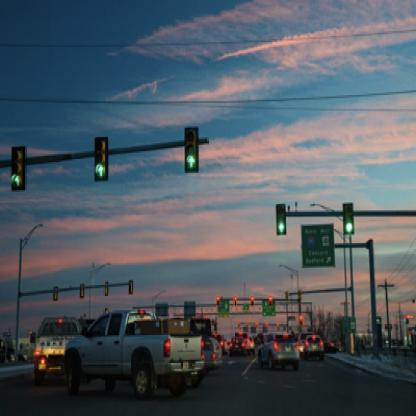Green Light: (10, 144, 27, 190), (92, 134, 108, 182), (184, 124, 198, 174), (342, 200, 355, 237), (274, 204, 288, 238)
Red Light: (268, 292, 273, 309), (297, 312, 304, 322), (216, 294, 220, 307), (250, 294, 254, 307), (233, 294, 237, 306)
